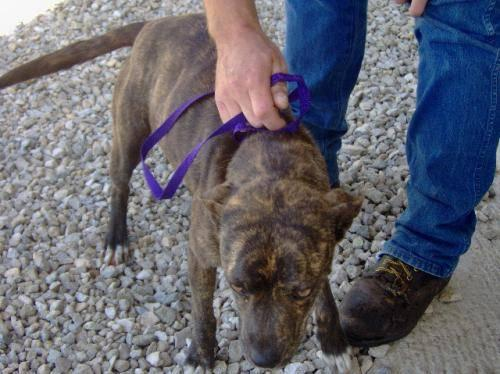dog: (185, 125, 362, 367), (104, 13, 216, 252), (160, 93, 221, 166)
